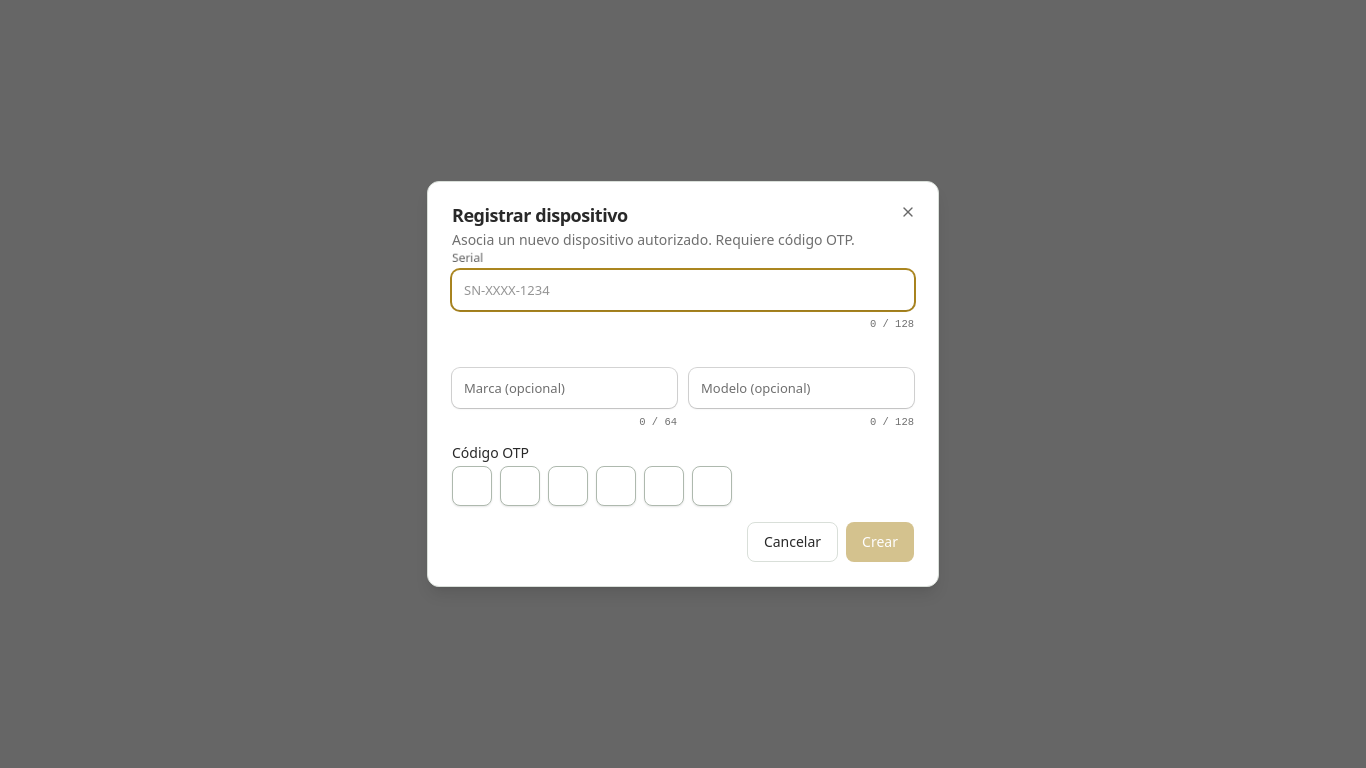
Test: DispositivosCreateDialog › shows conflict error when serial already exists
The image size is (1366, 768).
Type "SN-DUP-9999" into the field with test id "create-serial".
click(683, 290); type("SN-DUP-9999")  # box [452,270,914,310]
Type "1" into the field named "Digit".
click(472, 486); type("1")  # box [452,466,492,506]
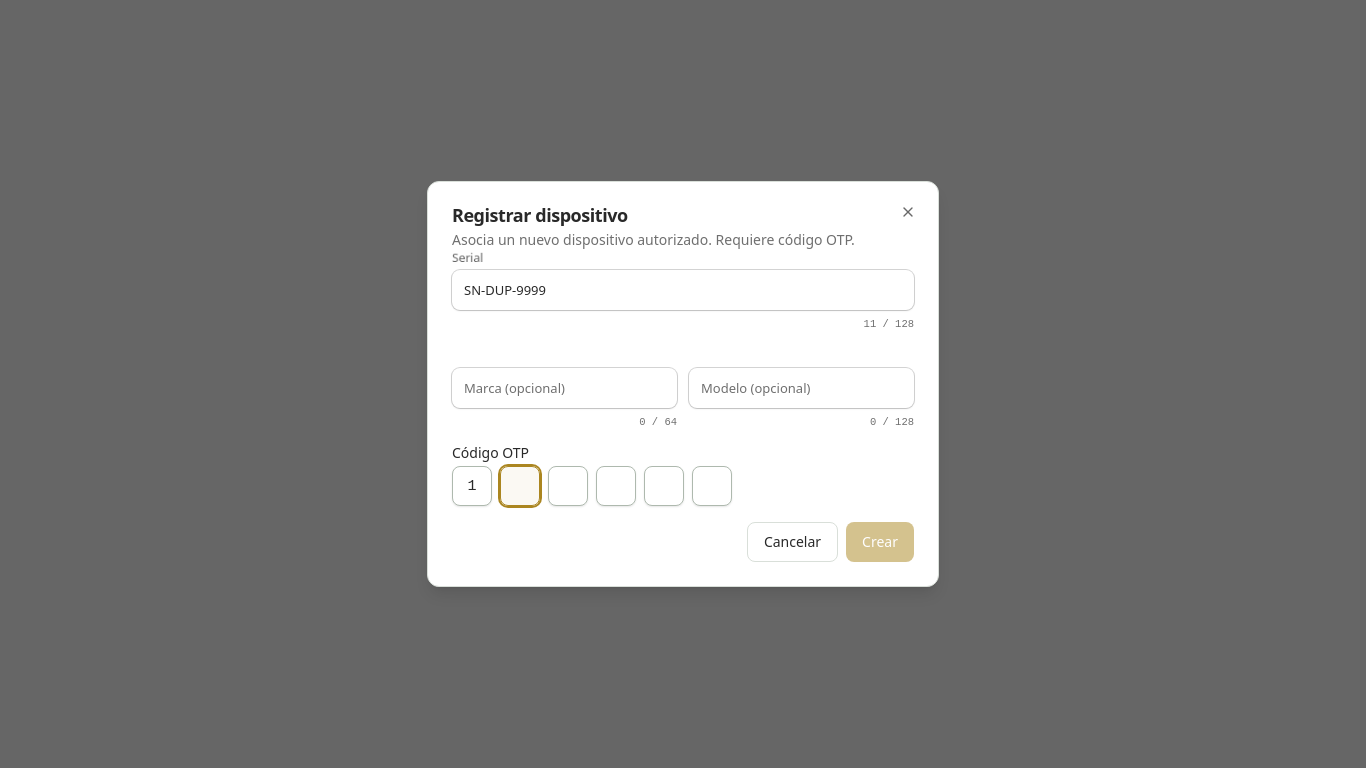
Type "1" into the field named "Digit".
click(520, 486); type("1")  # box [500,466,540,506]
Type "1" into the field named "Digit".
click(568, 486); type("1")  # box [548,466,588,506]
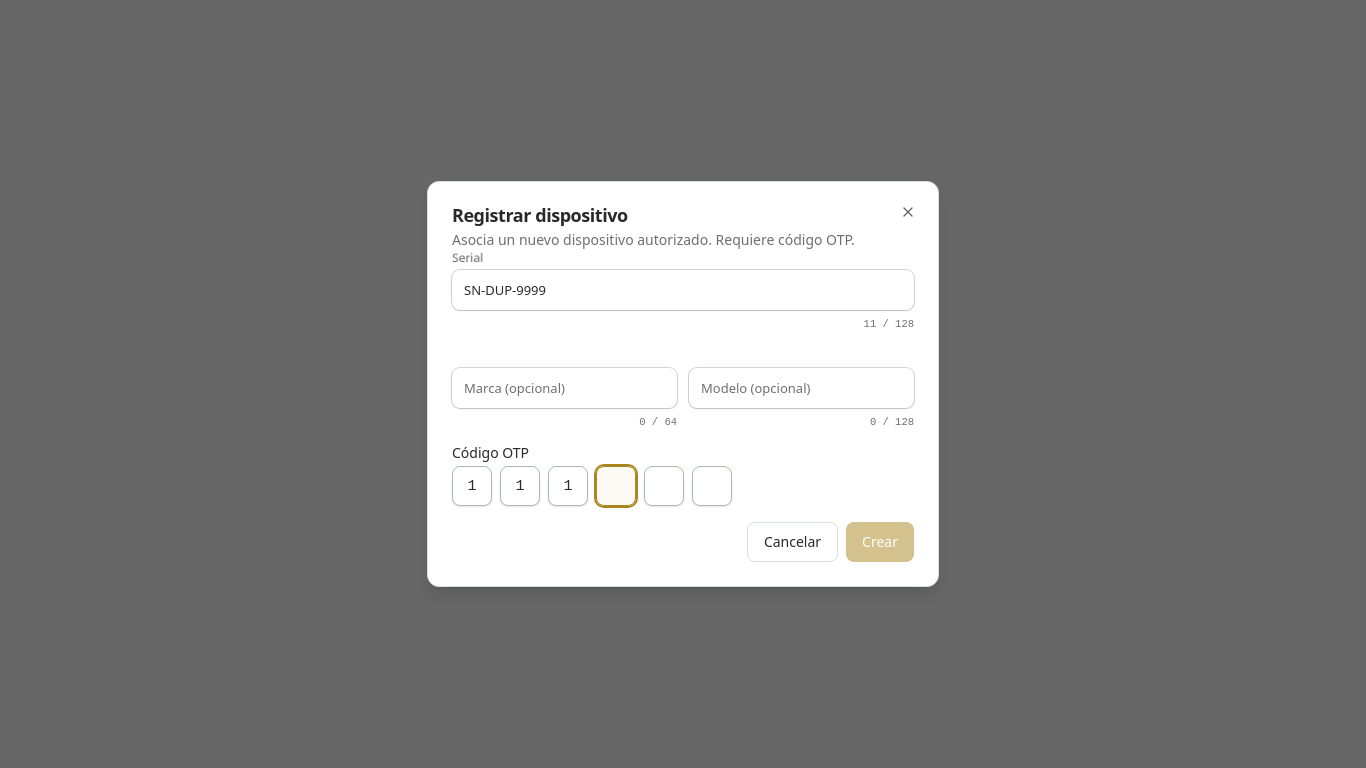
Type "1" into the field named "Digit".
click(616, 486); type("1")  # box [596,466,636,506]
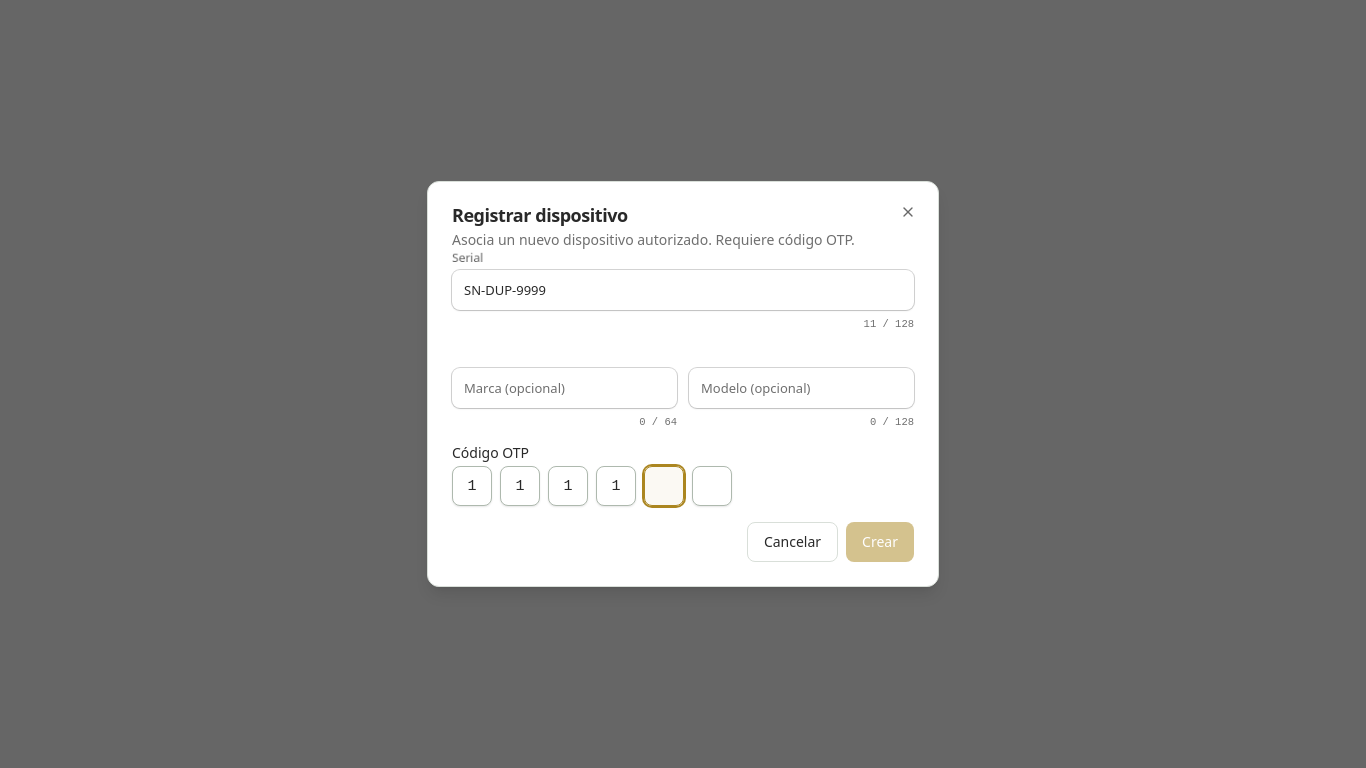
Type "1" into the field named "Digit".
click(664, 486); type("1")  # box [644,466,684,506]
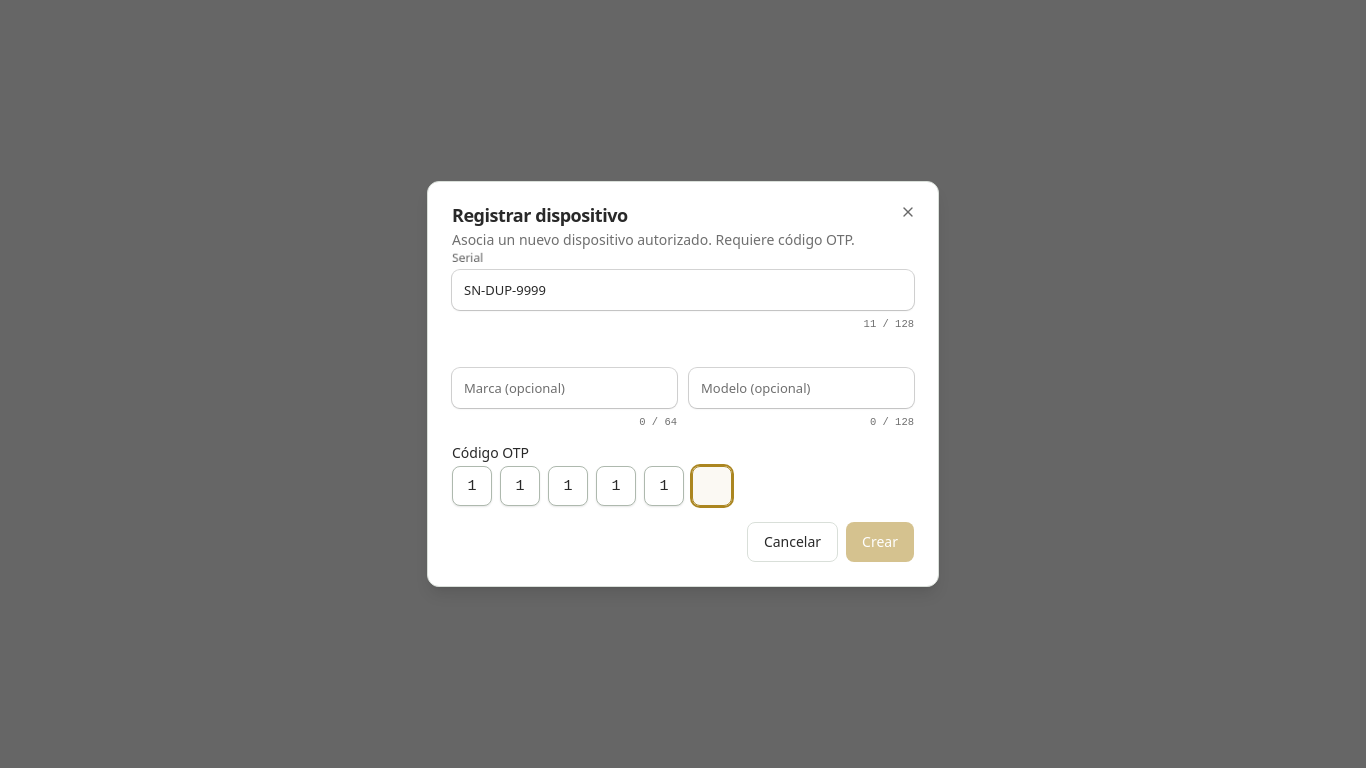
Type "1" into the field named "Digit".
click(712, 486); type("1")  # box [692,466,732,506]
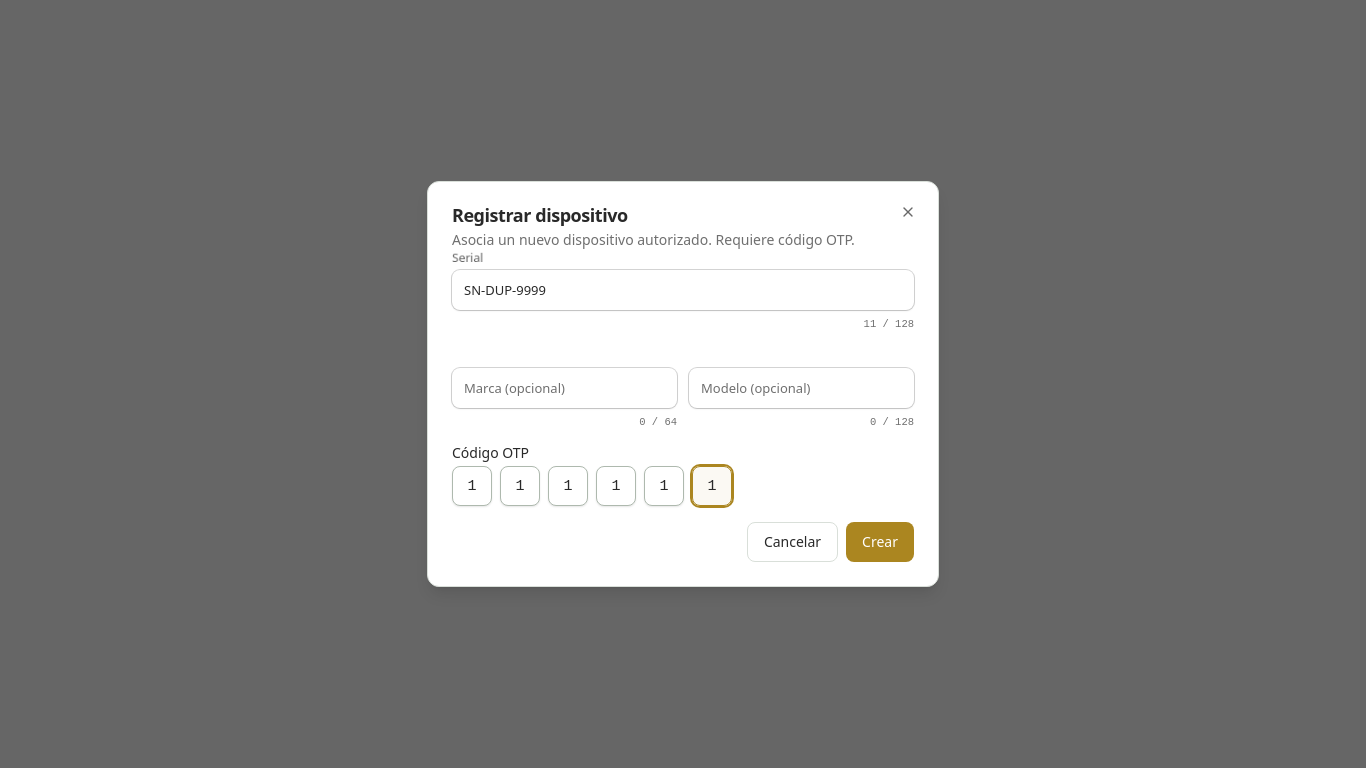
Click the button with test id "create-submit".
click(880, 542)  # box [846,522,914,562]
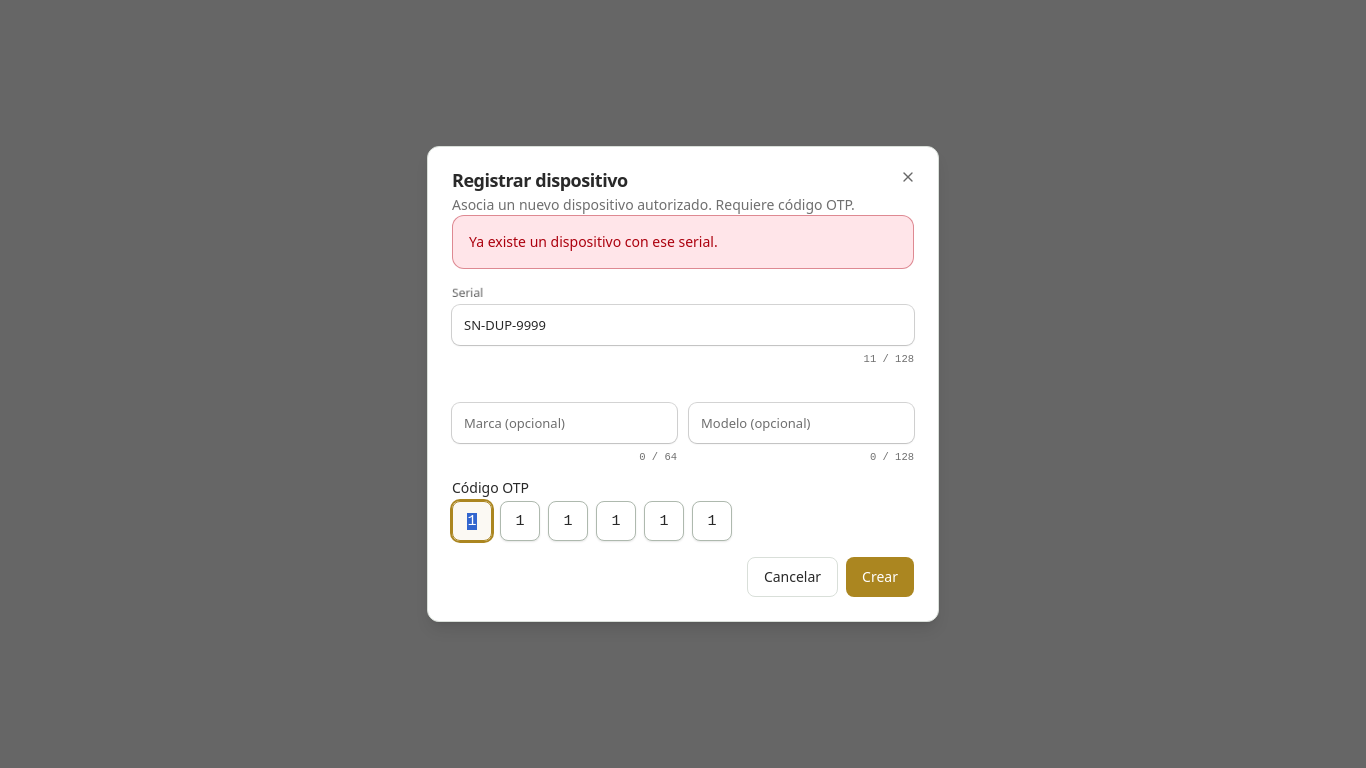
Expected: the message shows "serial", [469,232,718,251]
